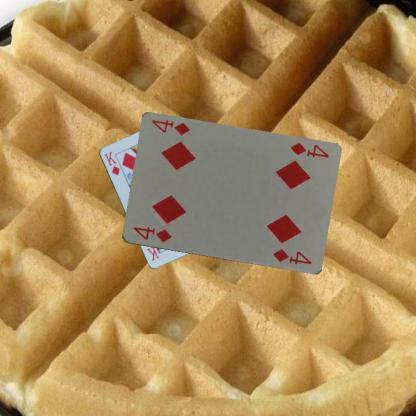4d: (130, 224, 173, 244), (287, 140, 329, 159)
Kd: (102, 149, 120, 176)
